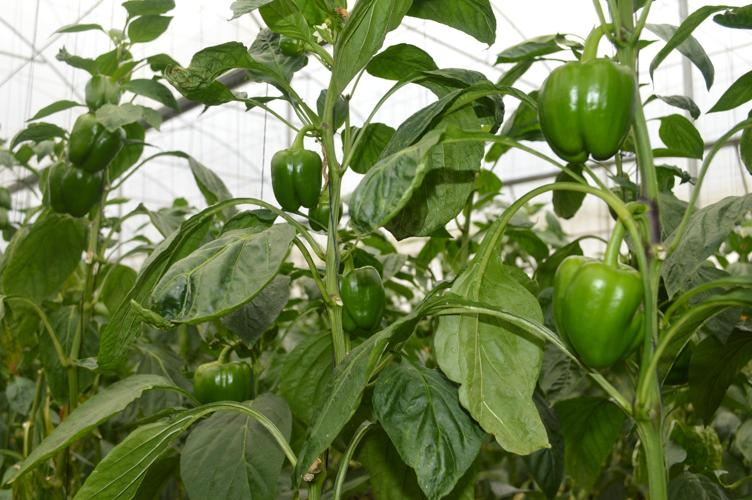BellPepper: (554, 253, 648, 376), (540, 59, 628, 170), (55, 108, 129, 177), (37, 157, 105, 232), (335, 267, 388, 336), (260, 149, 319, 209), (187, 361, 251, 412), (75, 72, 126, 114)
